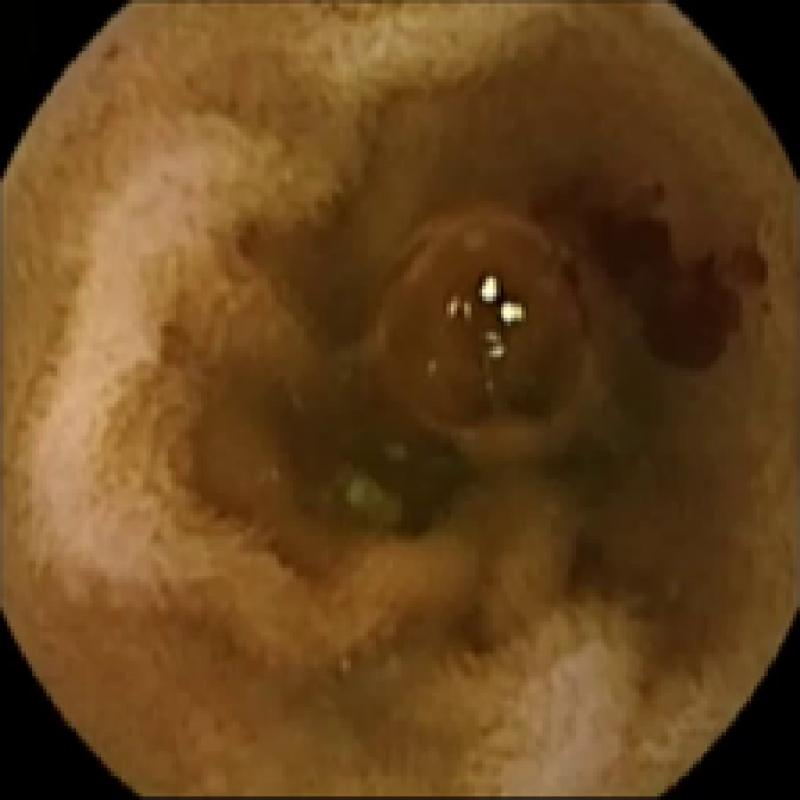bleeding: (543, 175, 778, 382)
